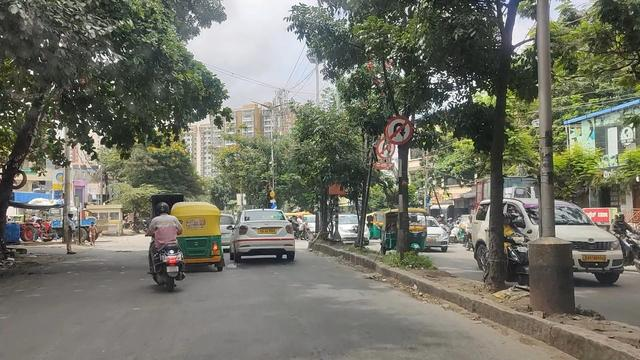LMV: (234, 213, 297, 265), (145, 207, 186, 283), (175, 201, 223, 264)
